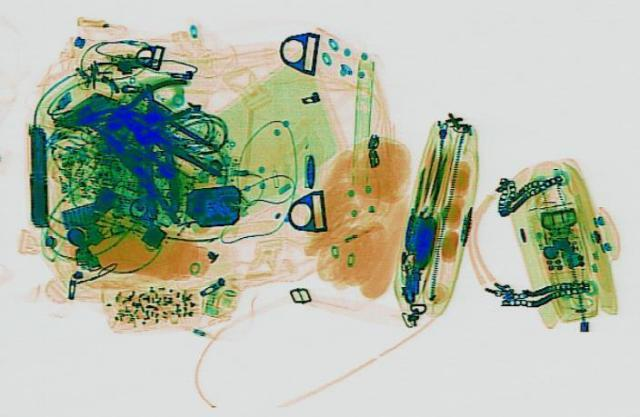Pliers: (54, 95, 246, 222), (66, 74, 204, 135)
